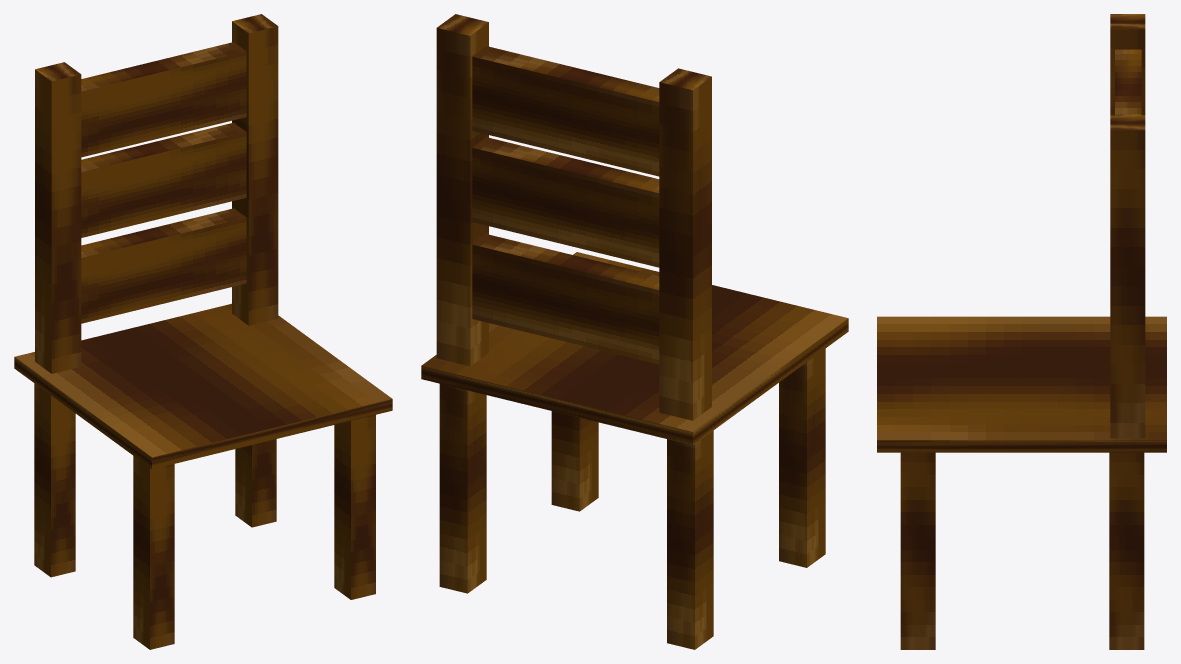
The model's file is SILLA.glb.
3 views of the same model, side by side, from view 1: azimuth 30°, elevation 25°; view 2: azimuth 150°, elevation 25°; view 3: azimuth 270°, elevation 25° (orthographic). The views are drawn at different scales.
Parts seen in each view (by area): view 1: silla-col; view 2: silla-col; view 3: silla-col.
Part boxes in pixels (x1,y1,x2,y2): silla-col: [14, 14, 392, 649]; silla-col: [421, 14, 848, 649]; silla-col: [877, 14, 1166, 649].
Bounding box in the file's own units: 0.6454 × 1.27 × 0.6398.
1 material, 1 textured.
